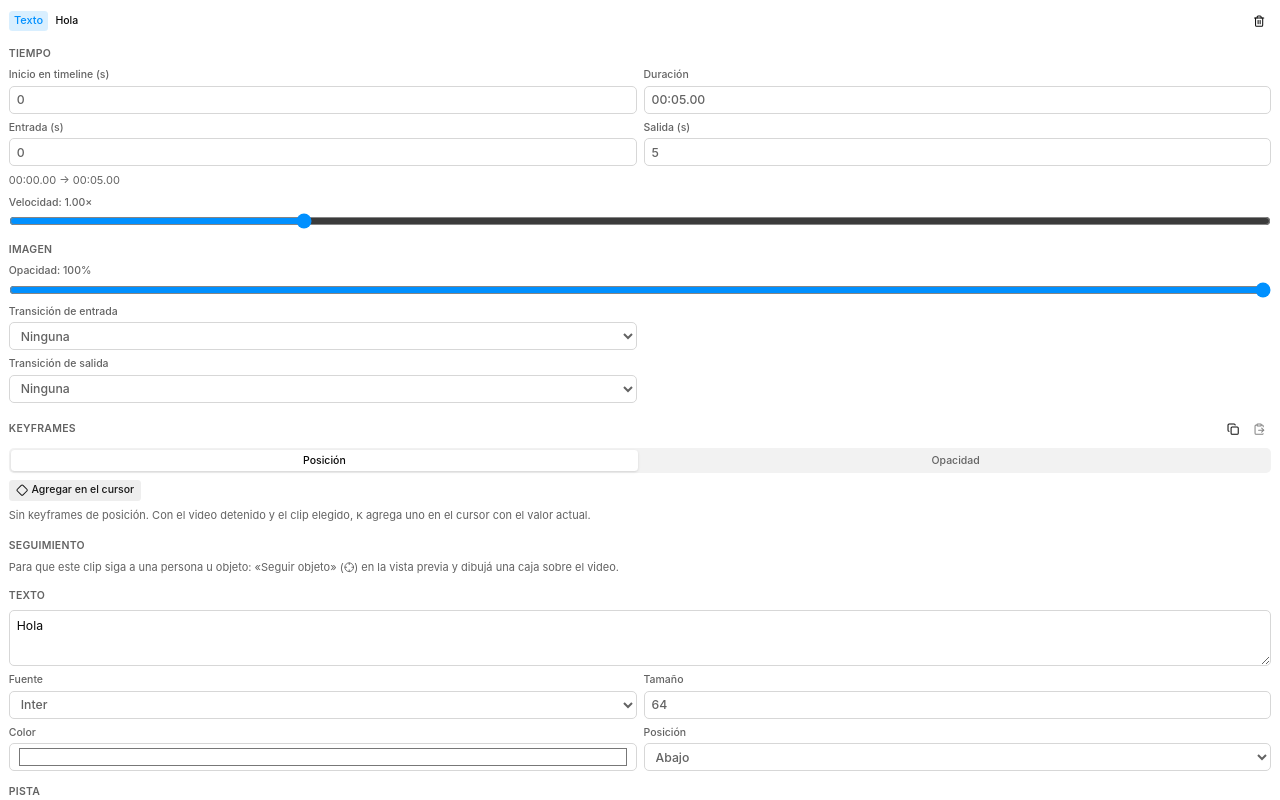
Test: InspectorPanel › edits the selected text clip
This screenshot has width=1280, height=800.
Replace the text in the text box named "Texto" with "Adiós" at x=640, y=638, box [9, 610, 1271, 666]
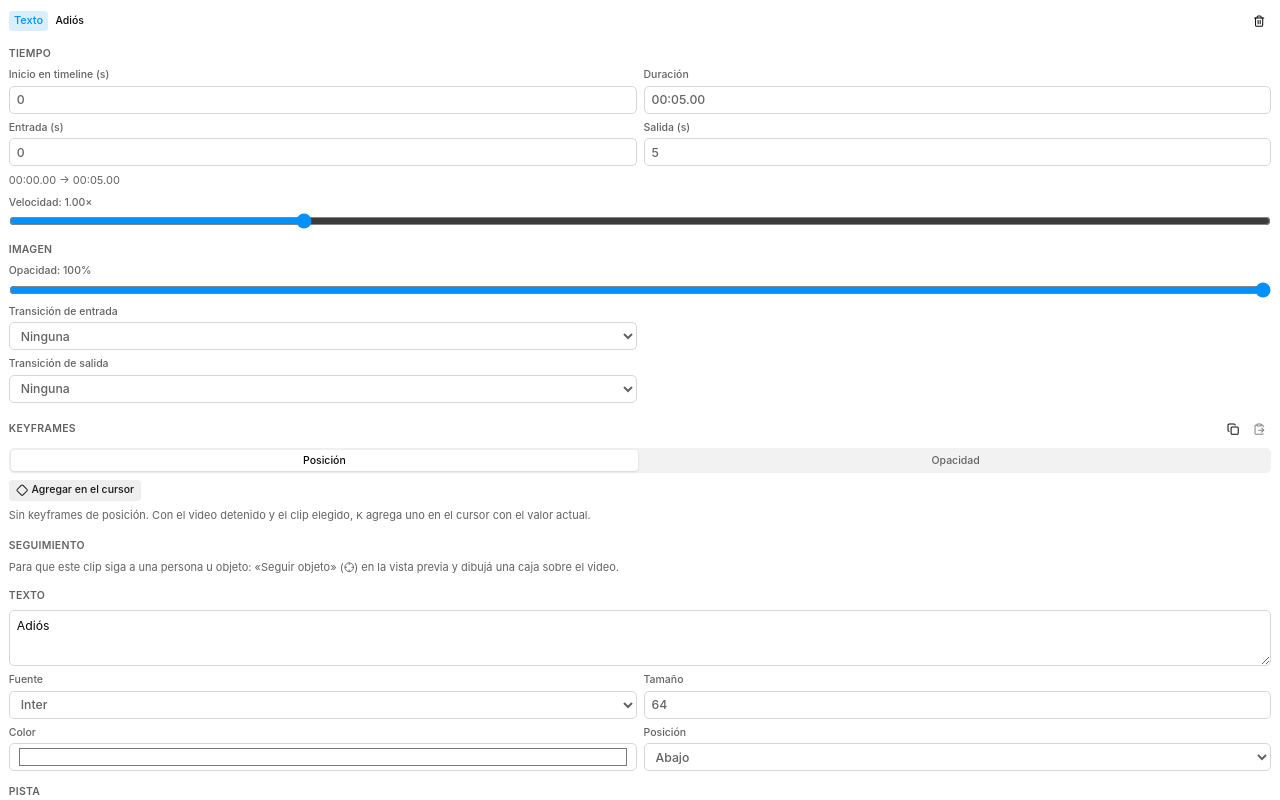
Expected: the text "Adiós" is shown, [55, 14, 84, 28]
